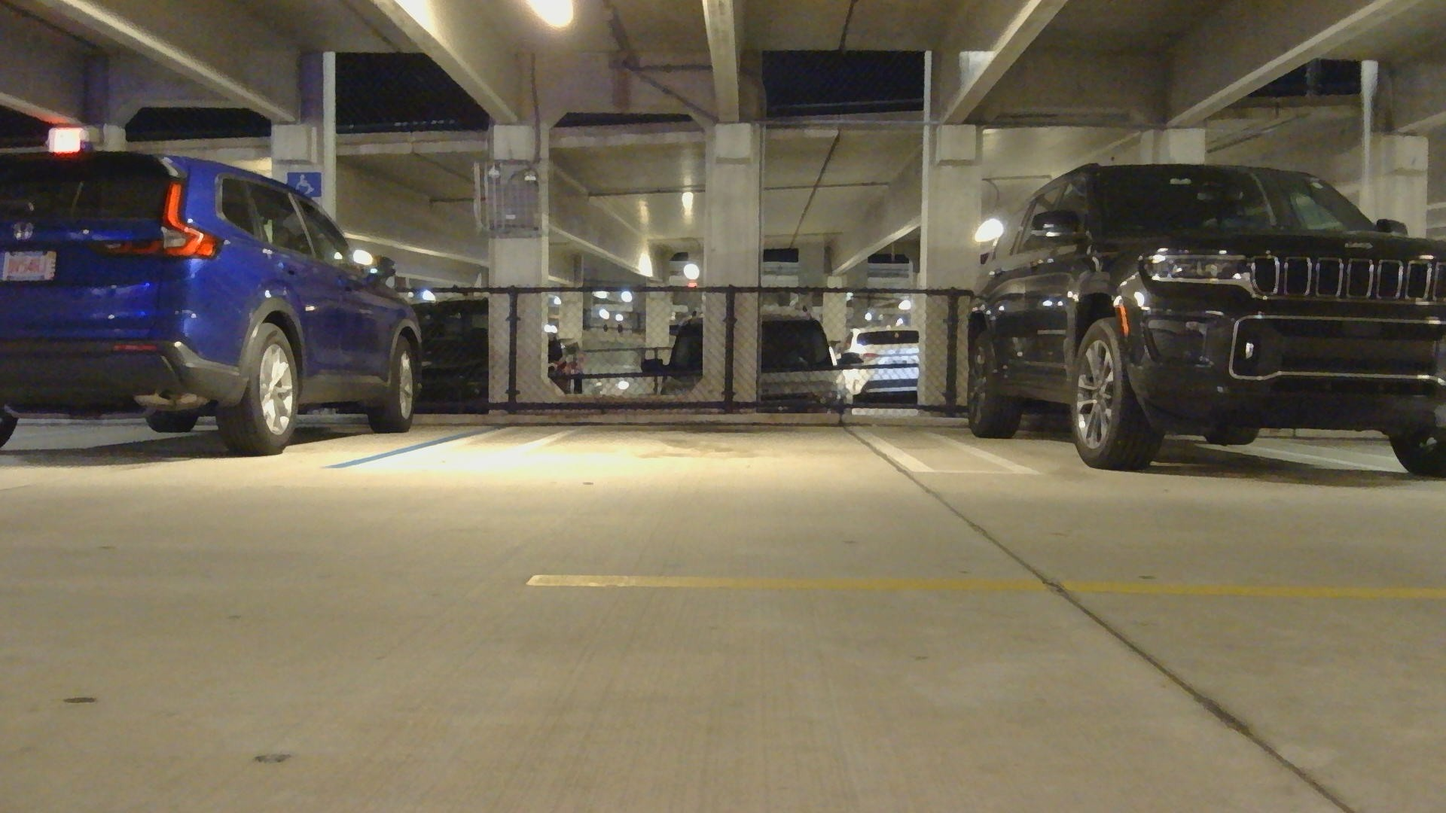empty_spot: (453, 363, 944, 475)
occupied_spot: (963, 161, 1446, 480), (0, 147, 430, 468)
